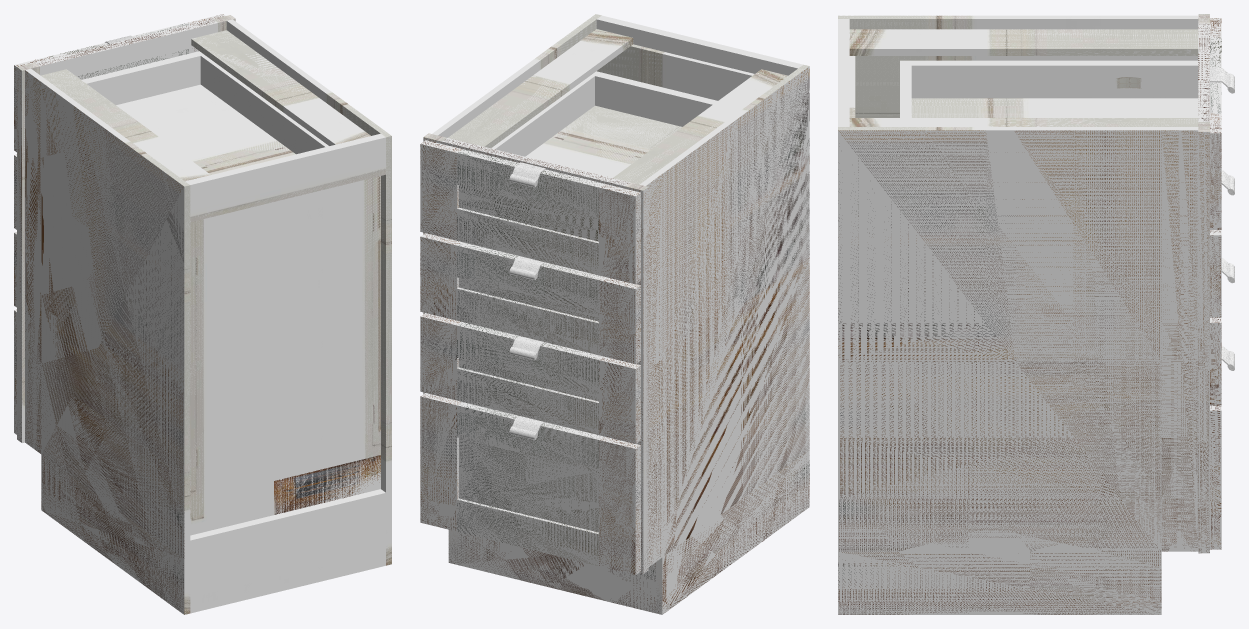
The picture shows the model from 3 angles, left to right: view 1: azimuth 30°, elevation 25°; view 2: azimuth 150°, elevation 25°; view 3: azimuth 270°, elevation 25°; orthographic projection. The views are drawn at different scales.
Visible parts, largest first — view 1: mesh4_mesh4-geometry, mesh7_mesh7-geometry, mesh12_mesh12-geometry, mesh8_mesh8-geometry, mesh3_mesh3-geometry, mesh19_mesh19-geometry, mesh6_mesh6-geometry, mesh14_mesh14-geometry, mesh10_mesh10-geometry, mesh5_mesh5-geometry, mesh15_mesh15-geometry, mesh16_mesh16-geometry (+5 smaller); view 2: mesh7_mesh7-geometry, mesh23_mesh23-geometry, mesh21_mesh21-geometry, mesh22_mesh22-geometry, mesh26_mesh26-geometry, mesh24_mesh24-geometry, mesh8_mesh8-geometry, mesh13_mesh13-geometry, mesh14_mesh14-geometry, mesh19_mesh19-geometry, mesh6_mesh6-geometry, mesh4_mesh4-geometry (+8 smaller); view 3: mesh10_mesh10-geometry, mesh11_mesh11-geometry, mesh9_mesh9-geometry, mesh16_mesh16-geometry, mesh15_mesh15-geometry, mesh7_mesh7-geometry, mesh19_mesh19-geometry, mesh2_mesh2-geometry, mesh24_mesh24-geometry, mesh14_mesh14-geometry, mesh3_mesh3-geometry, mesh5_mesh5-geometry (+5 smaller).
Part boxes in pixels (x1,y1,x2,y2): mesh4_mesh4-geometry: (190,176,380,535); mesh7_mesh7-geometry: (41,80,190,558); mesh12_mesh12-geometry: (190,489,385,613); mesh8_mesh8-geometry: (41,454,190,614); mesh3_mesh3-geometry: (185,133,385,222); mesh19_mesh19-geometry: (116,84,295,174); mesh6_mesh6-geometry: (25,68,46,453); mesh14_mesh14-geometry: (191,30,370,145); mesh10_mesh10-geometry: (243,31,391,509); mesh5_mesh5-geometry: (35,19,217,75); mesh15_mesh15-geometry: (41,69,210,181); mesh16_mesh16-geometry: (196,51,328,154); mesh7_mesh7-geometry: (656,64,809,556); mesh23_mesh23-geometry: (457,207,598,566); mesh21_mesh21-geometry: (457,149,603,471); mesh22_mesh22-geometry: (599,183,640,575); mesh26_mesh26-geometry: (459,185,598,532); mesh24_mesh24-geometry: (420,140,461,531); mesh8_mesh8-geometry: (656,450,809,614); mesh13_mesh13-geometry: (454,531,656,613); mesh14_mesh14-geometry: (448,29,633,148); mesh19_mesh19-geometry: (525,105,681,177); mesh6_mesh6-geometry: (640,172,662,566); mesh4_mesh4-geometry: (597,44,754,100); mesh10_mesh10-geometry: (838,127,1161,551); mesh11_mesh11-geometry: (838,551,1161,614); mesh9_mesh9-geometry: (1161,127,1198,551); mesh16_mesh16-geometry: (900,60,1198,98); mesh15_mesh15-geometry: (849,29,1198,55); mesh7_mesh7-geometry: (838,15,1161,117); mesh19_mesh19-geometry: (911,98,1198,117); mesh2_mesh2-geometry: (1198,14,1209,553); mesh24_mesh24-geometry: (1210,113,1221,549); mesh14_mesh14-geometry: (849,118,1198,126); mesh3_mesh3-geometry: (838,19,849,126); mesh5_mesh5-geometry: (1198,23,1209,121).
Size of the model in its own units: 0.3864 by 0.7406 by 0.5497.
